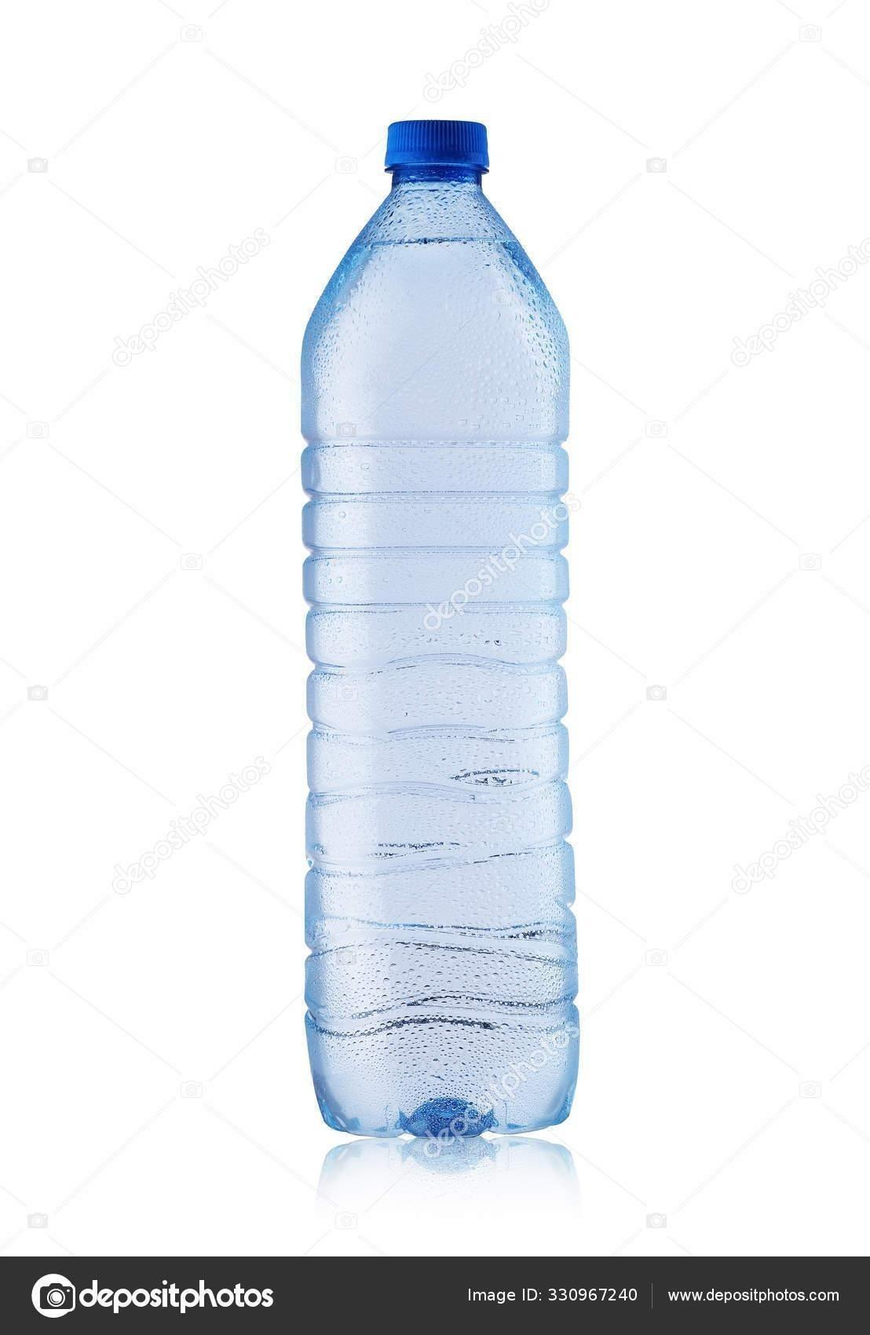bottle-plastic: (283, 105, 593, 1145)
